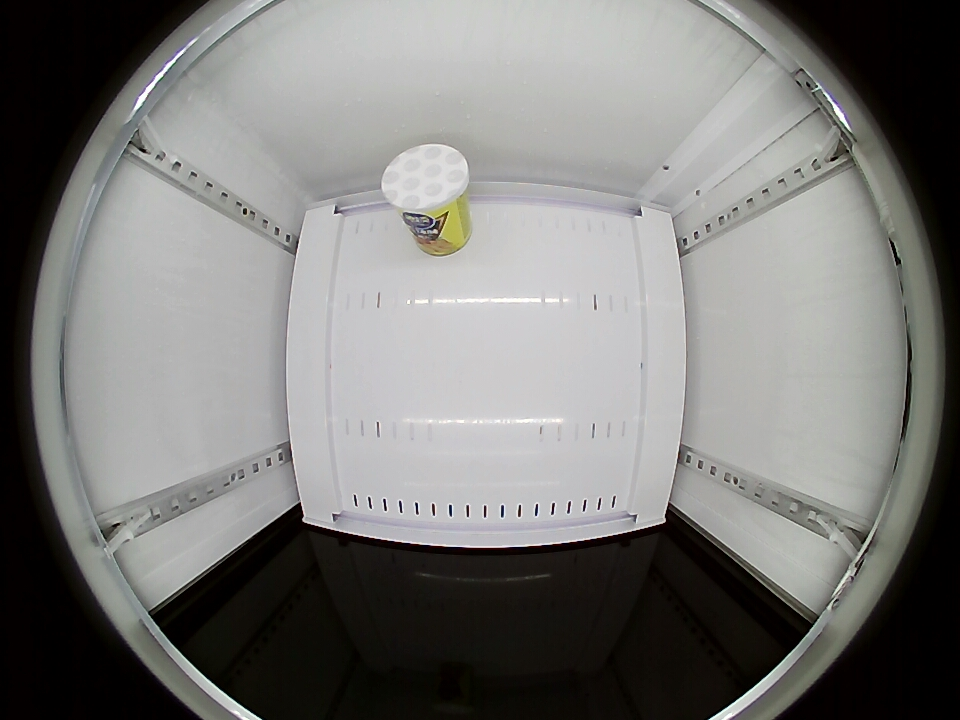kebike: (381, 143, 473, 229)
